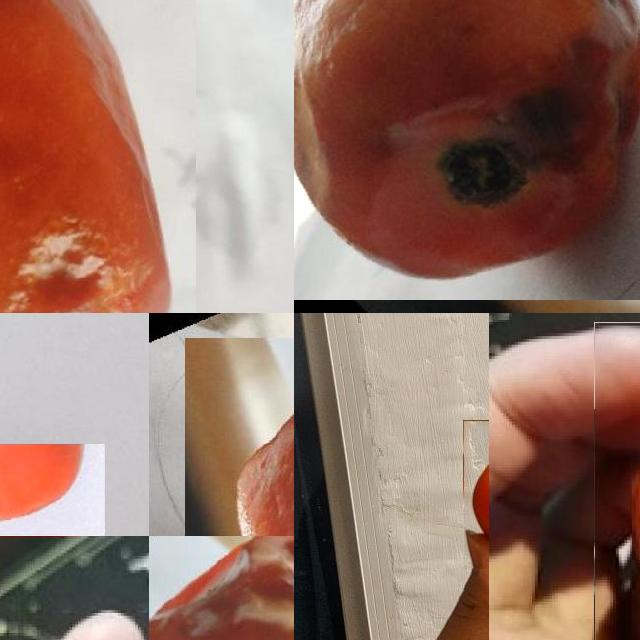Fresh Tomato: (0, 444, 104, 536)
Rotten Tomato: (294, 0, 640, 300), (0, 0, 196, 313), (185, 337, 294, 536)
